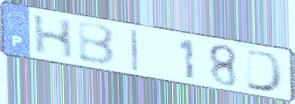1: (178, 39, 198, 82)
8: (206, 43, 240, 88)
B: (74, 20, 117, 68)
D: (244, 47, 287, 95)
H: (32, 13, 76, 62)
I: (129, 28, 140, 74)
